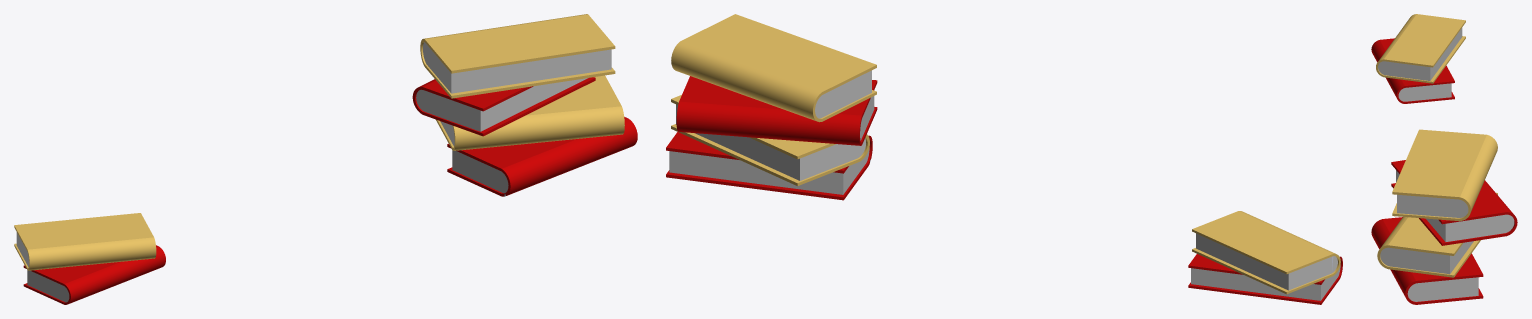
Rendered from libri.fbx.
3 renders of one model, left to right at view 1: azimuth 30°, elevation 25°; view 2: azimuth 150°, elevation 25°; view 3: azimuth 270°, elevation 25°, orthographic. The views are drawn at different scales.
Parts seen in each view (by area): view 1: group_19.002, group_28.002; view 2: group_19.002, group_28.002; view 3: group_19.002, group_28.002.
Boxes of the visible parts, <box> form: group_19.002: <box>412,14,637,196</box>; group_28.002: <box>14,213,165,304</box>; group_19.002: <box>666,14,877,200</box>; group_28.002: <box>1188,211,1342,304</box>; group_19.002: <box>1371,129,1517,304</box>; group_28.002: <box>1371,14,1465,103</box>.
Bounding box in the file's own units: 587 × 109 × 142.
